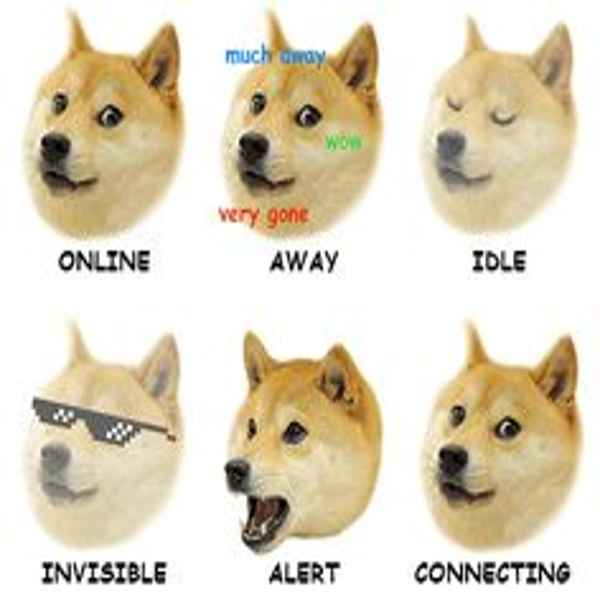doge: (216, 328, 392, 558), (413, 18, 578, 249), (422, 324, 592, 548), (214, 16, 377, 249), (22, 18, 182, 241), (23, 331, 186, 544)
